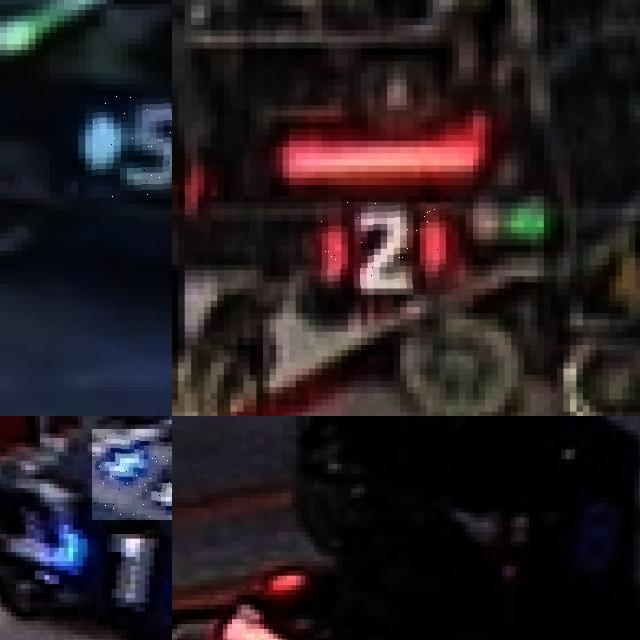B1: (44, 524, 172, 616), (92, 428, 172, 520)
B5: (85, 95, 172, 198)
R2: (316, 202, 452, 288)
